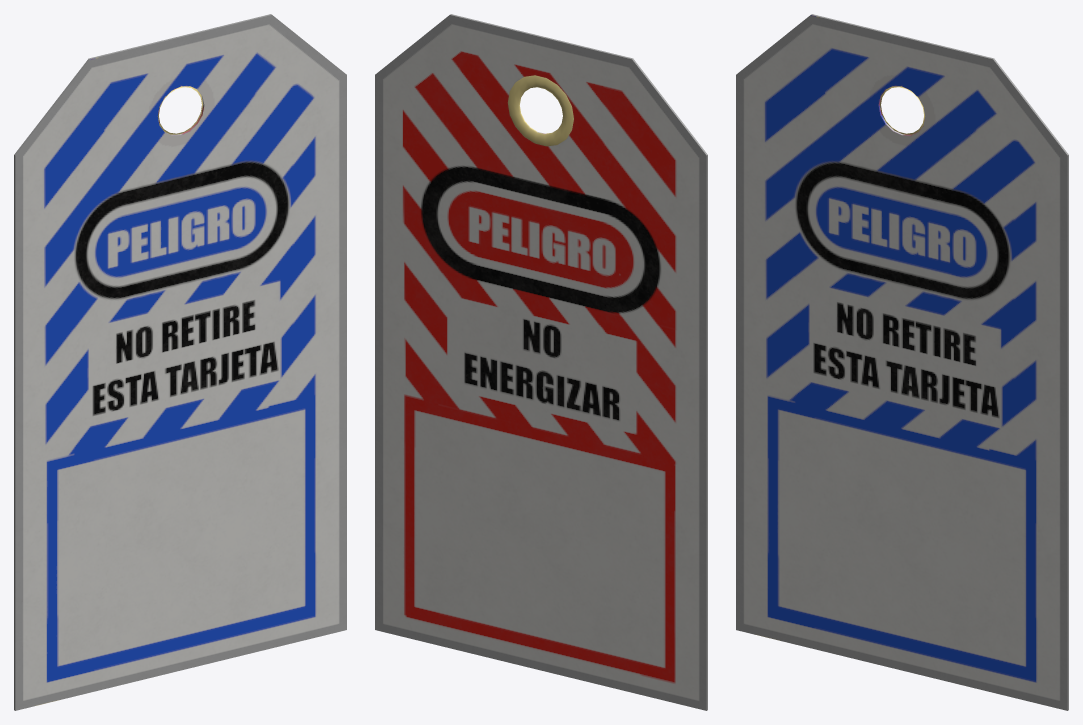
File: Etiqueta.glb
3 renders of one model, left to right at view 1: azimuth 30°, elevation 25°; view 2: azimuth 150°, elevation 25°; view 3: azimuth 330°, elevation 25°, orthographic.
Parts seen in each view (by area): view 1: Mesh17; view 2: Mesh17; view 3: Mesh17.
Part boxes in pixels (x1,y1,x2,y2): Mesh17: (14,14,346,710); Mesh17: (375,14,707,710); Mesh17: (736,14,1068,710).
Size of the model in its own units: 0.1132 by 0.2065 by 0.00097.
Materials: 1 (1 with a texture image).
